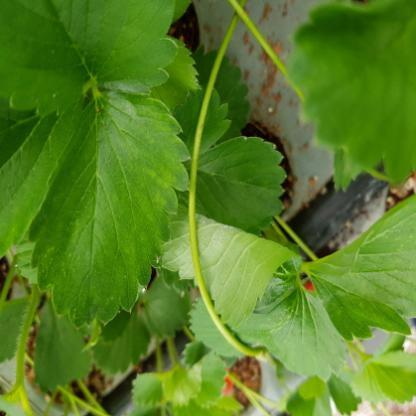Strawberry_Powdery_Mildew_Leaf: (159, 204, 305, 330)
